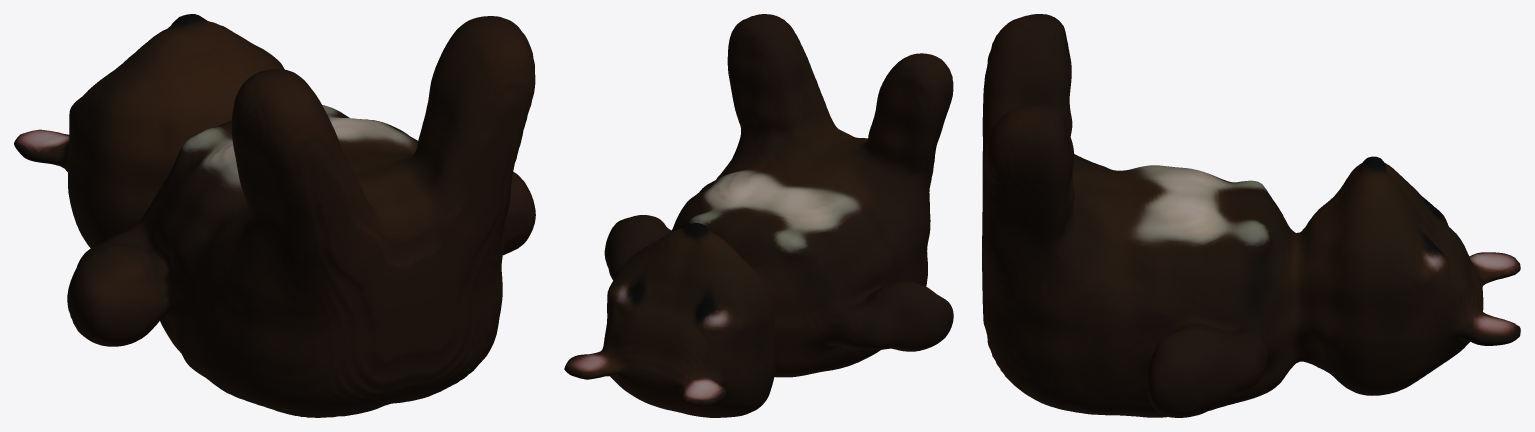
3 views of the same model, side by side, from view 1: azimuth 30°, elevation 25°; view 2: azimuth 150°, elevation 25°; view 3: azimuth 270°, elevation 25° (orthographic). The views are drawn at different scales.
Parts seen in each view (by area): view 1: plyFile; view 2: plyFile; view 3: plyFile.
Boxes of the visible parts, <box> form: plyFile: <box>14,14,535,417</box>; plyFile: <box>564,14,953,417</box>; plyFile: <box>982,14,1520,417</box>.
Size of the model in its own units: 166 by 130 by 198.
